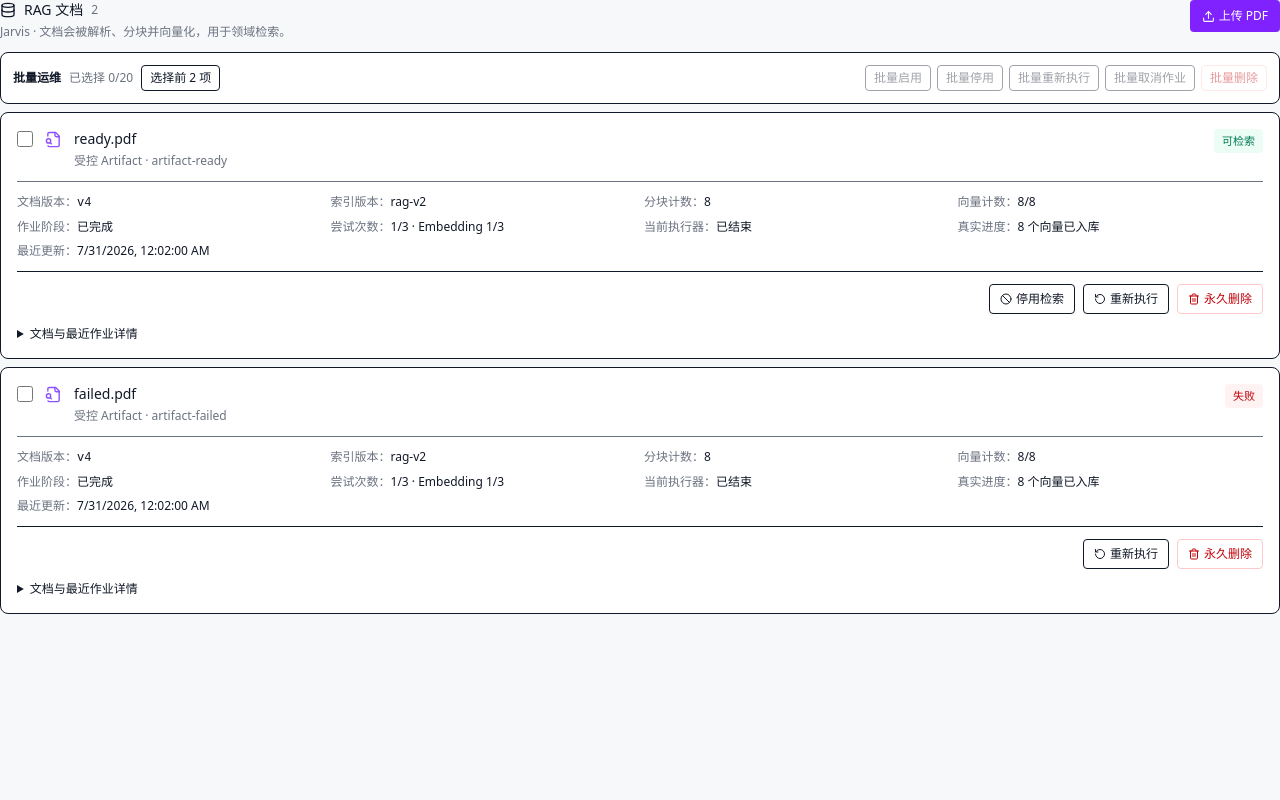
RagDocumentLibrary › previews eligible and skipped counts before a bounded batch action
Click the checkbox named "选择 ready.pdf" at point(25, 139), box [17,131,33,147]
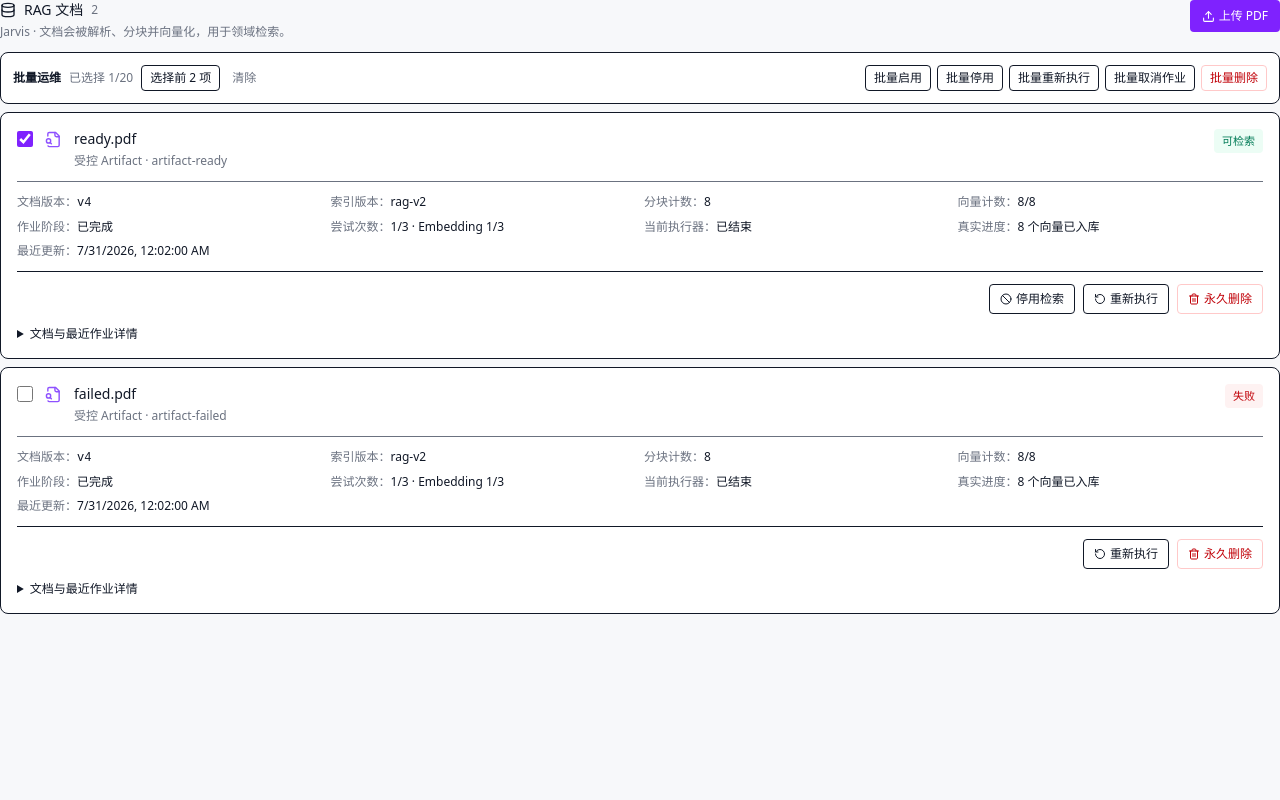
Click the checkbox named "选择 failed.pdf" at point(25, 394), box [17,386,33,402]
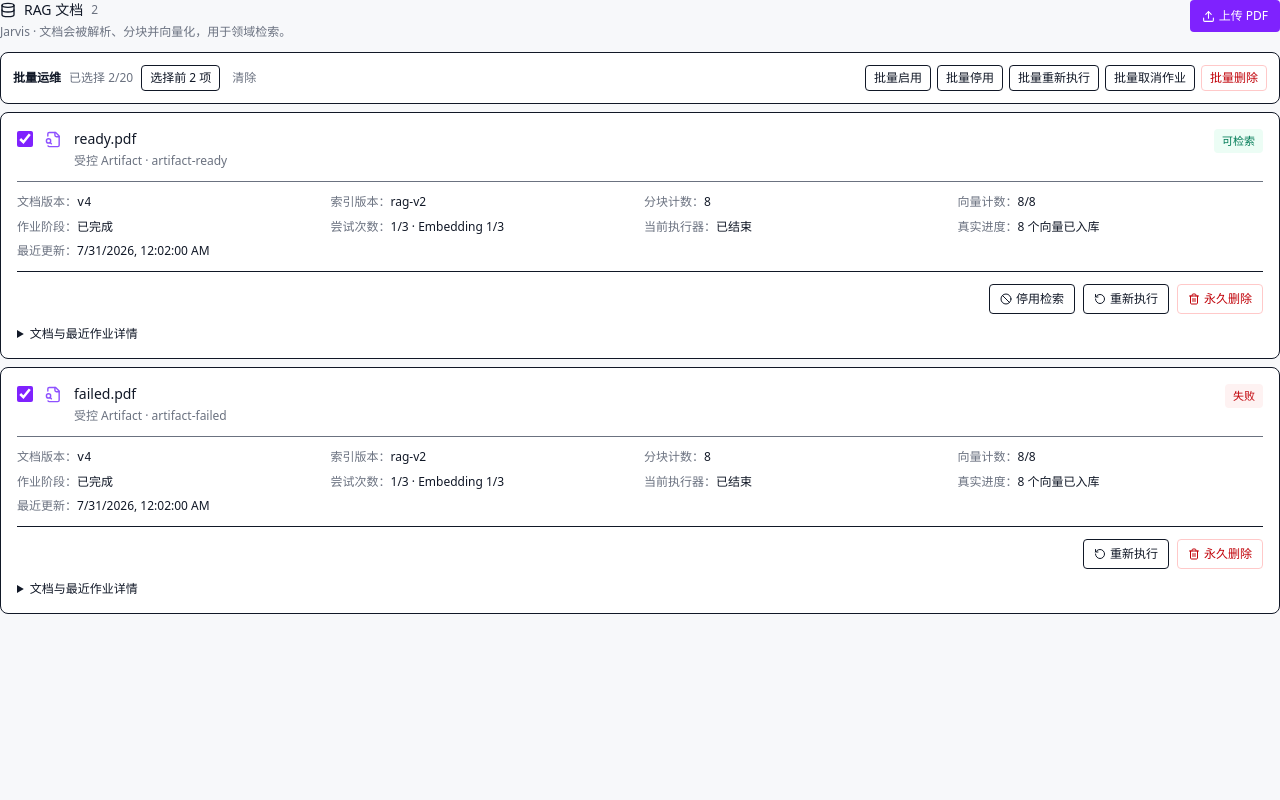
Click the button "批量停用" at point(970, 78), box [937,65,1003,91]
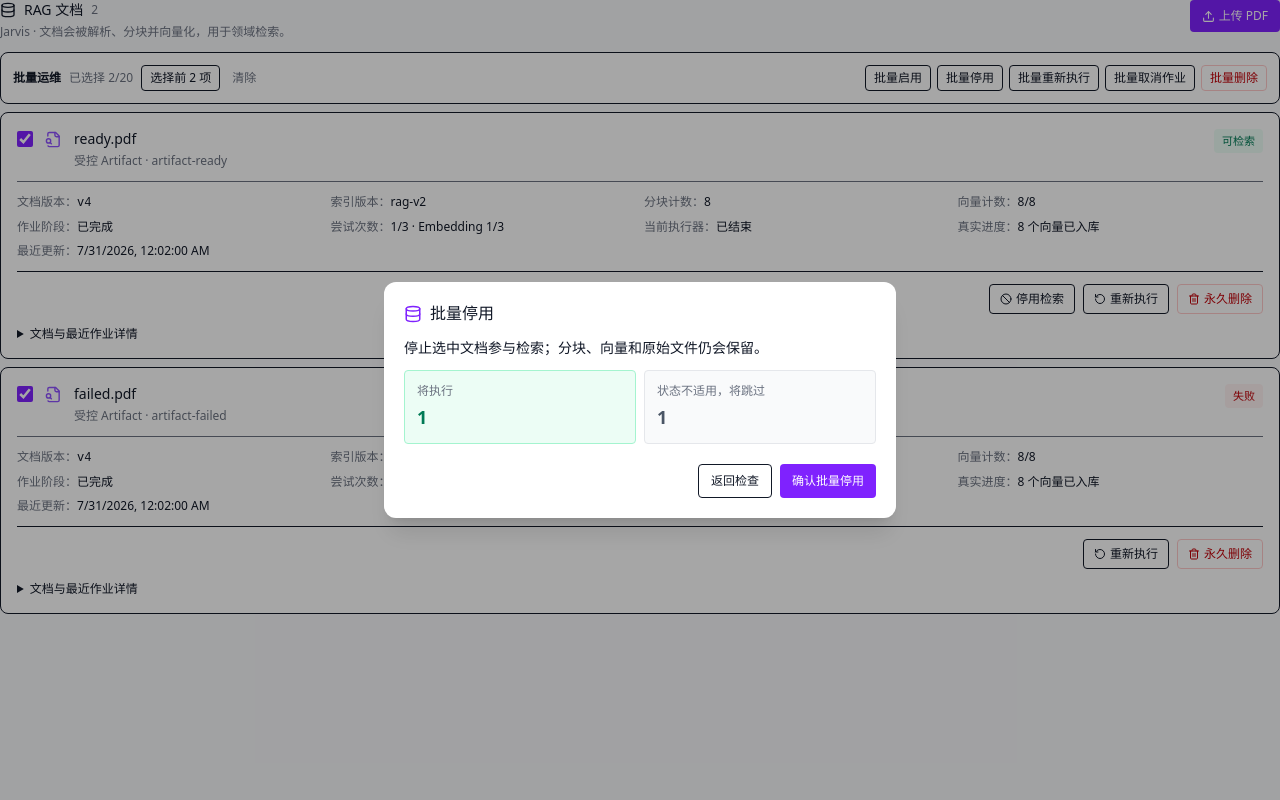
Now the dialog shows "停止选中文档参与检索", box [404,338,768,357]
